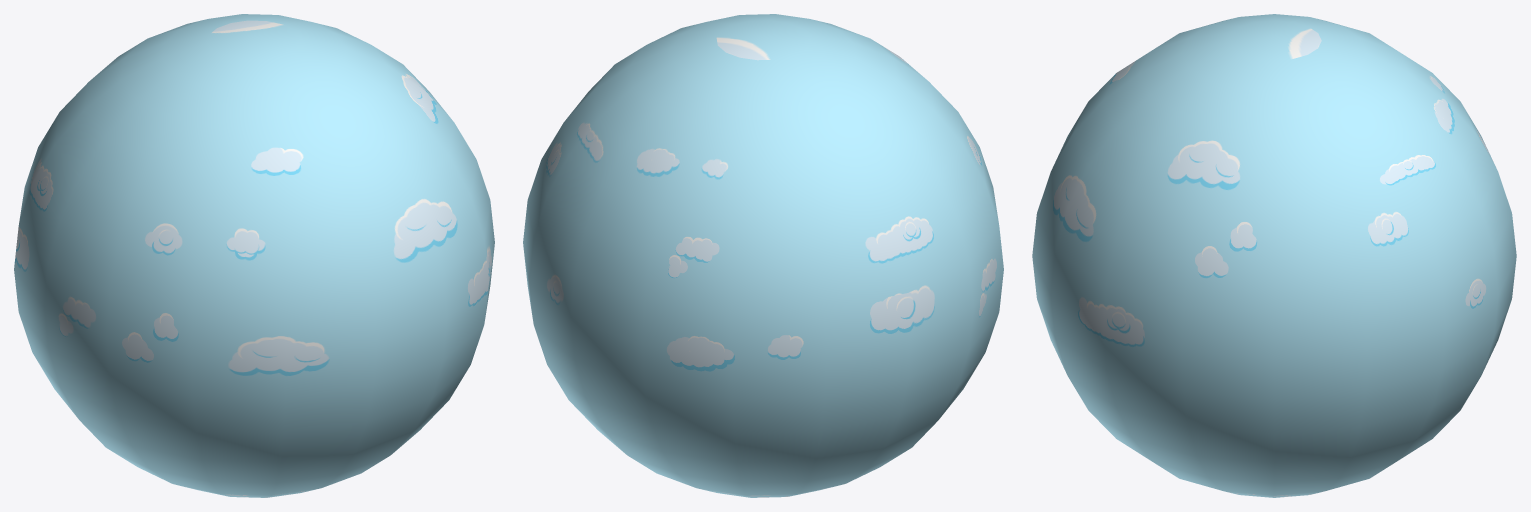
The model's file is sky.obj.
3 renders of one model, left to right at view 1: azimuth 30°, elevation 25°; view 2: azimuth 150°, elevation 25°; view 3: azimuth 270°, elevation 25°, orthographic.
Visible parts, largest first — view 1: Sphere.003_Sphere.002; view 2: Sphere.003_Sphere.002; view 3: Sphere.003_Sphere.002.
Part boxes in pixels (x1,y1,x2,y2): Sphere.003_Sphere.002: (14,14,494,497); Sphere.003_Sphere.002: (523,14,1003,497); Sphere.003_Sphere.002: (1032,14,1516,497).
Size of the model in its own units: 12.14 by 12.14 by 12.14.
